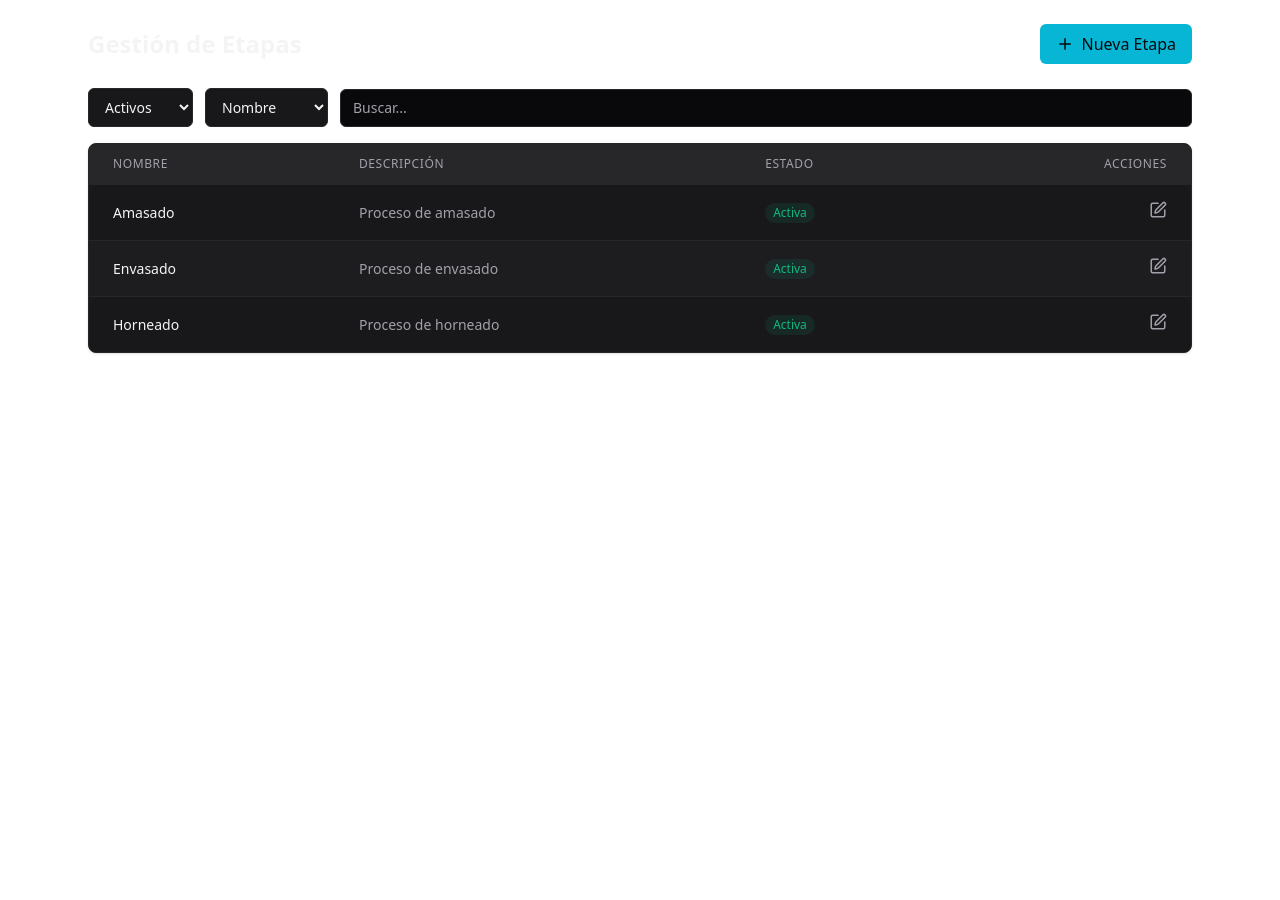
Test case: EtapasPage › editing active etapa and clearing descripcion sends PUT with descripcion:null (not empty string)
This screenshot has width=1280, height=900.
Expected: the text "Amasado" is shown, [89,184,335,240]
Step 1. Click the button titled "Editar" in the row of "Proceso de amasado" → [1158, 210], box [1149,201,1167,219]
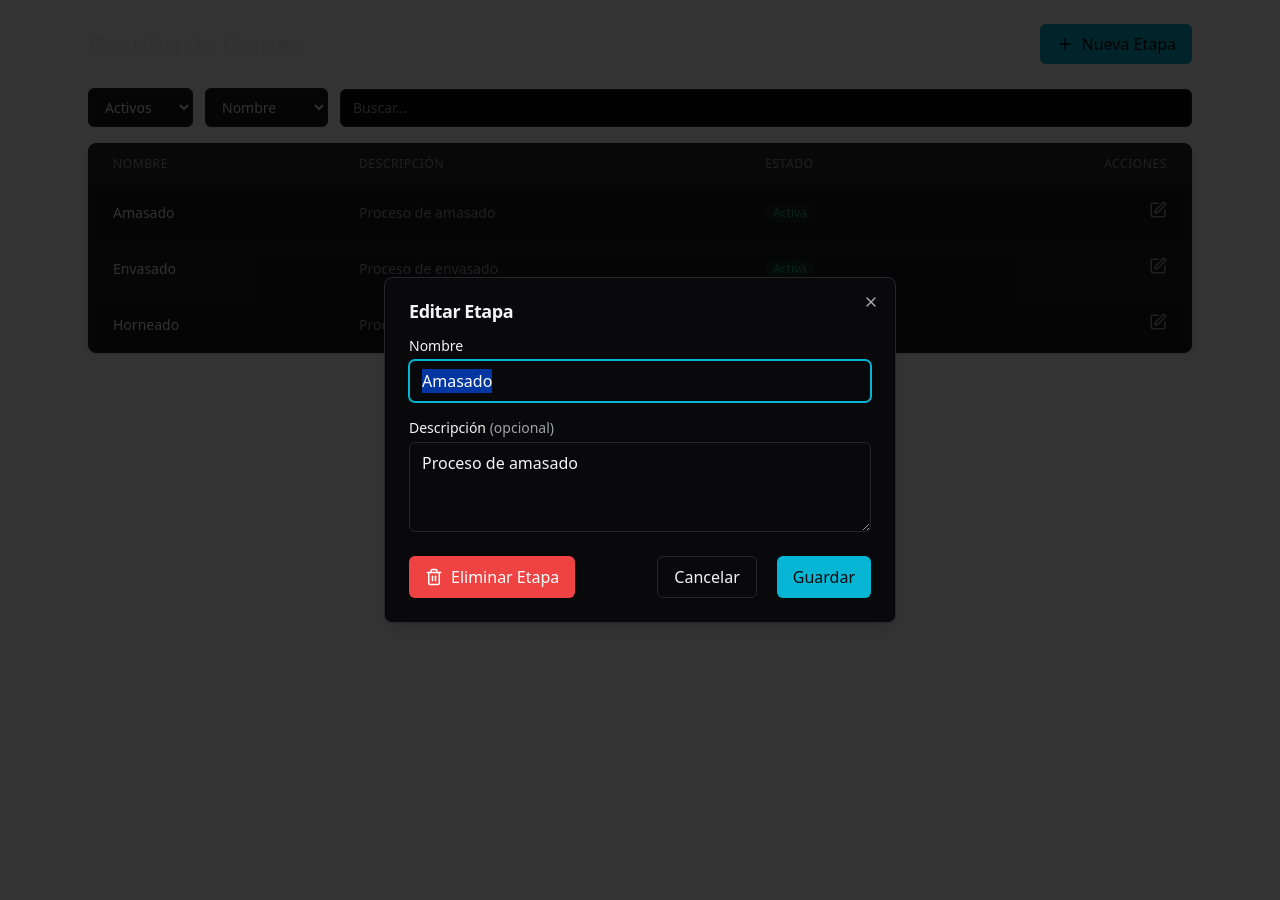
Note: Clear the description textarea
Step 2. Clear the text box labelled "Descripción (opcional)" → [640, 487], box [409,442,871,532]
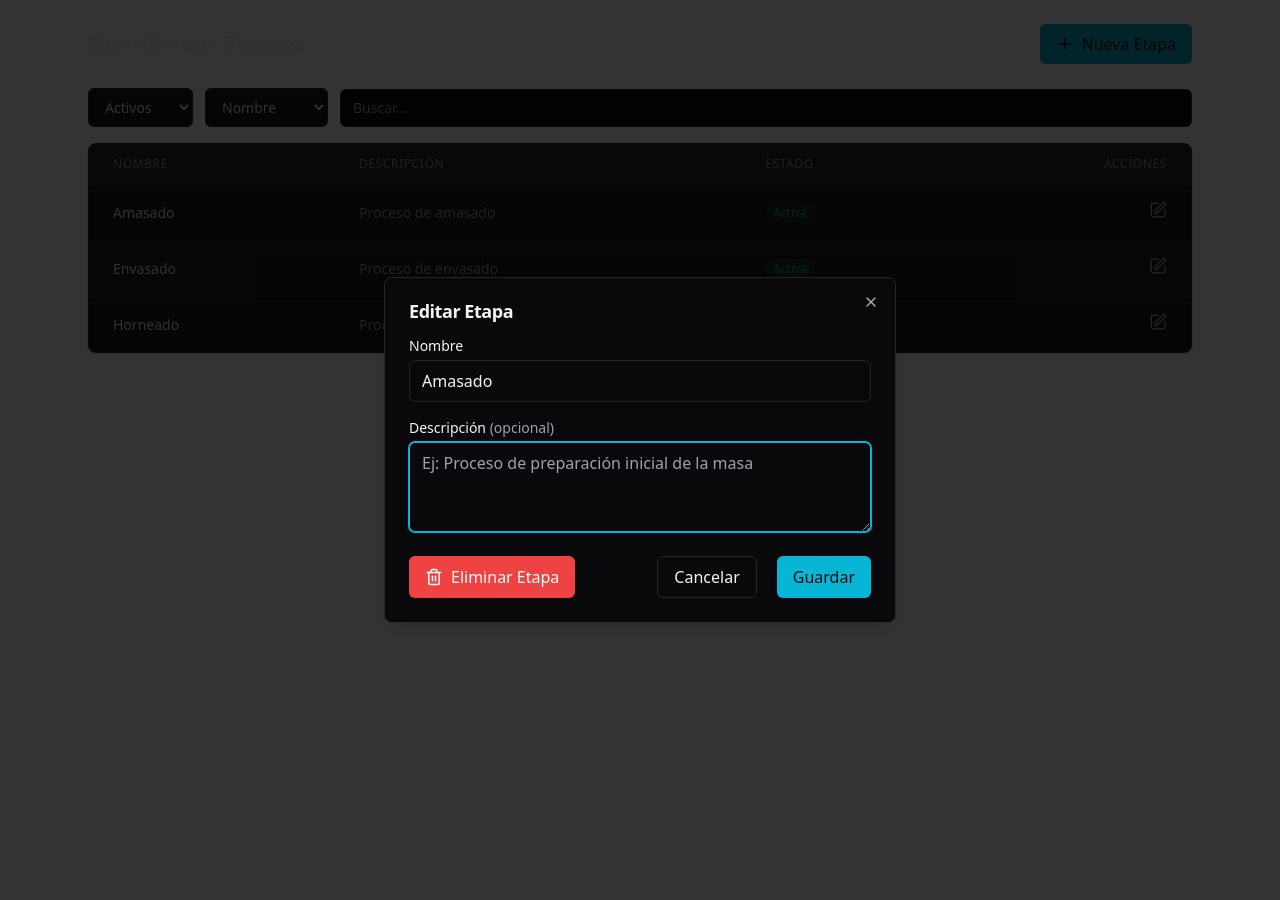
Step 3. Click the button "Guardar" → [824, 577], box [777,556,871,598]
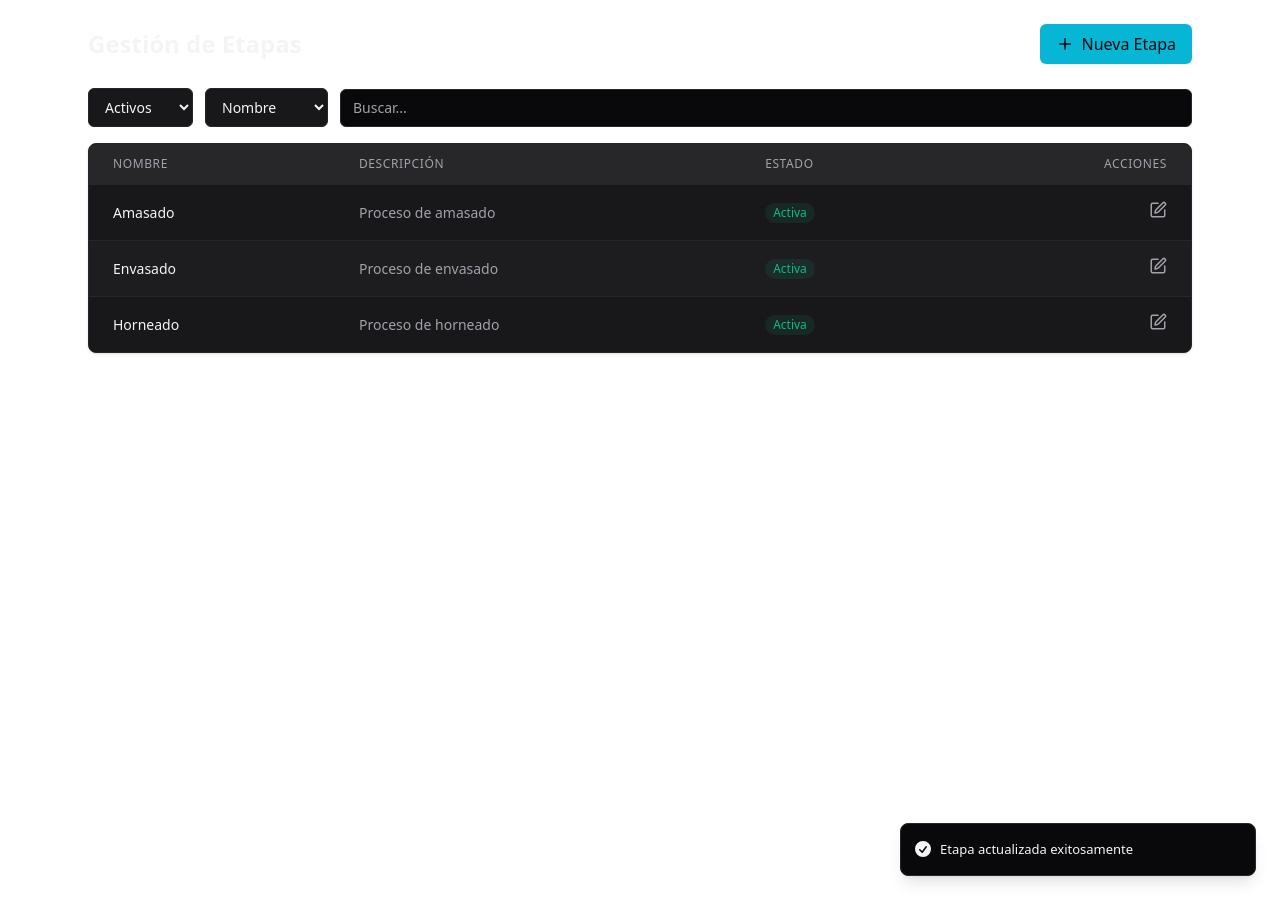
Expected: the heading "Editar Etapa" is gone
